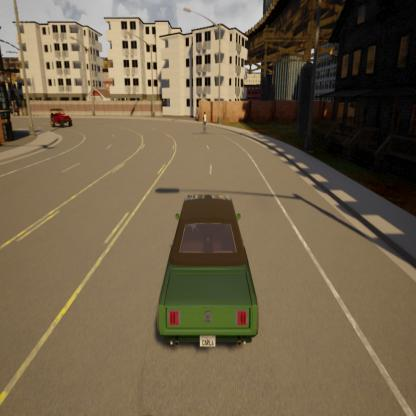Cars: (132, 188, 262, 355), (47, 101, 79, 130)
